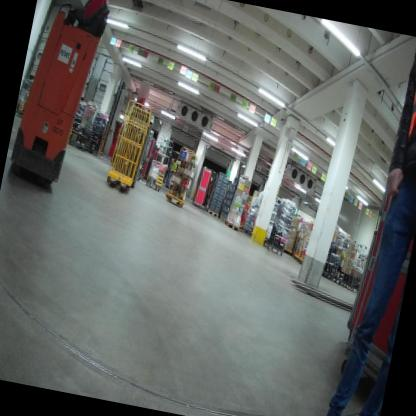pallet: (223, 220, 241, 232), (204, 206, 220, 219), (239, 224, 248, 233), (246, 228, 254, 236), (220, 215, 226, 224), (218, 213, 223, 220)
pallet_truck: (1, 0, 114, 196), (98, 98, 161, 196)
